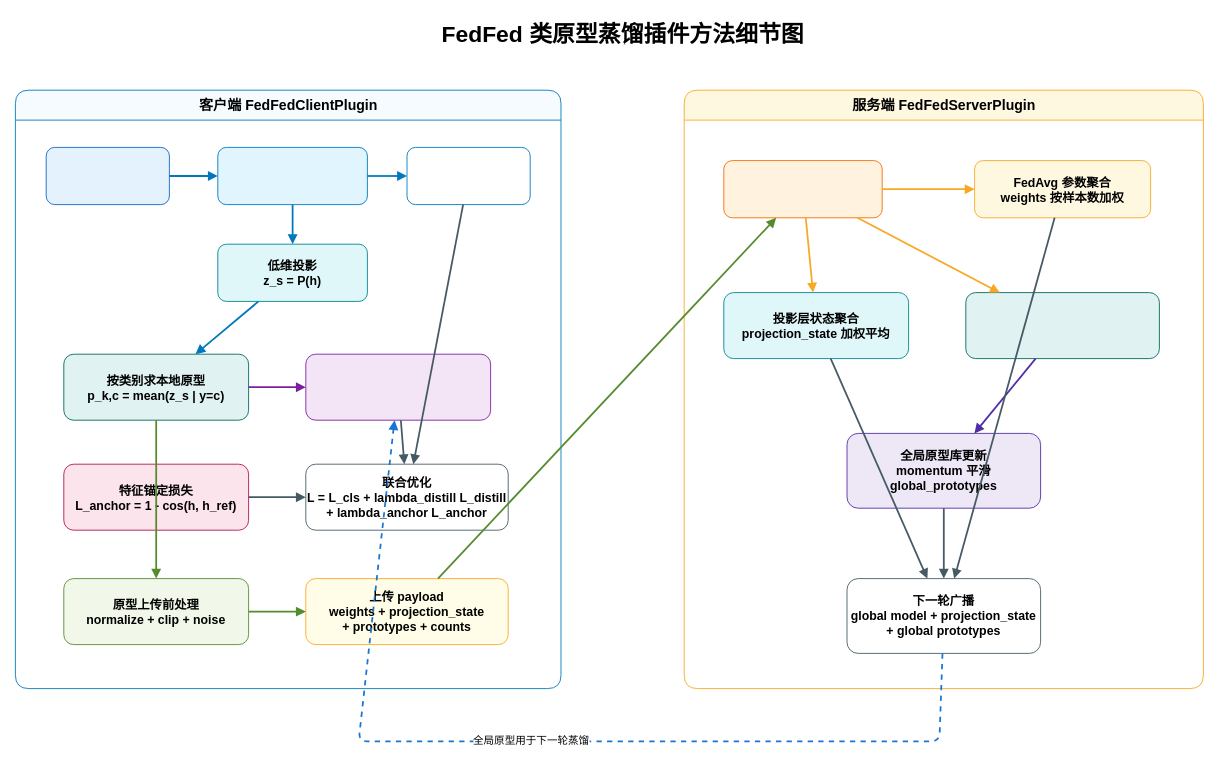
This 1219x764 diagram has some shape labels left out. The shapes that lost their labels are listed below. From the top down, each one's centre as x and y in pixels, then its label:
(x=107, y=176): 本地 batch (X, y)
(x=292, y=176): 主模型前向 pred, h = model(X)
(x=468, y=176): 分类损失 L_cls = CE(pred, y)
(x=802, y=189): 接收客户端 payloads
(x=1062, y=325): 类别原型聚合 p_g,c = weighted_mean(p_k,c)
(x=398, y=386): 原型蒸馏损失 L_distill = d(p_k,c, p_g,c) cosine / MSE
